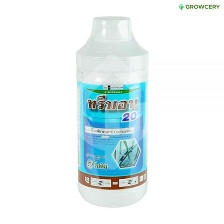insecticide: (71, 8, 151, 210)
